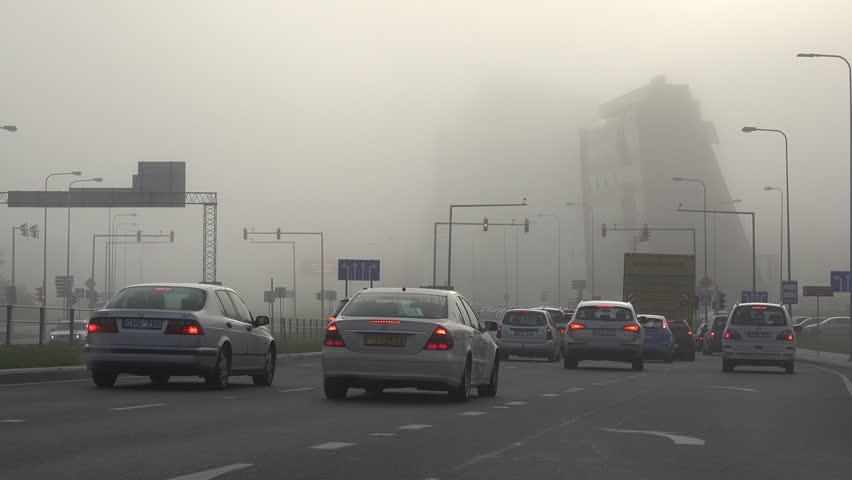backpack: (665, 319, 697, 361)
bench: (794, 316, 849, 366), (46, 319, 87, 343)
bicycle: (794, 316, 849, 353), (48, 318, 87, 344)
bus: (625, 270, 698, 356), (620, 248, 696, 320), (738, 289, 769, 303)
car: (82, 281, 276, 389), (321, 285, 498, 401), (514, 301, 605, 369), (561, 298, 646, 370), (720, 300, 797, 373), (588, 304, 670, 368), (622, 250, 697, 316), (769, 310, 848, 369), (631, 272, 687, 353), (496, 307, 567, 364), (793, 320, 850, 388), (467, 304, 529, 360), (646, 314, 701, 363), (700, 309, 758, 354), (720, 301, 771, 347), (474, 308, 505, 380), (795, 315, 849, 355), (451, 296, 507, 334), (19, 317, 87, 346), (638, 313, 677, 362), (250, 315, 277, 385), (672, 319, 717, 360), (717, 298, 775, 327), (333, 284, 382, 318), (505, 306, 566, 333), (488, 305, 521, 352), (570, 298, 637, 320), (495, 306, 538, 339), (731, 301, 790, 323), (537, 300, 586, 326), (667, 319, 697, 361), (784, 309, 824, 340), (550, 307, 574, 358), (660, 315, 689, 357), (779, 314, 800, 372), (472, 313, 500, 356), (557, 312, 579, 366), (470, 305, 503, 340), (531, 305, 575, 330), (690, 315, 718, 354), (478, 306, 517, 334), (710, 312, 736, 354), (700, 315, 728, 353), (635, 313, 671, 342), (784, 315, 806, 362), (47, 319, 87, 344), (816, 317, 849, 347), (794, 316, 841, 337), (690, 313, 725, 338), (545, 310, 567, 346), (466, 301, 496, 327), (778, 310, 818, 329), (680, 320, 701, 355), (792, 316, 818, 344), (695, 329, 725, 353), (489, 306, 529, 324), (812, 316, 851, 334), (779, 316, 804, 343), (676, 319, 705, 342), (481, 314, 502, 345), (476, 305, 506, 326), (527, 306, 563, 323), (547, 309, 572, 333), (486, 308, 506, 338), (670, 318, 693, 344), (705, 313, 723, 344), (476, 311, 501, 333), (553, 321, 567, 360), (557, 317, 571, 356), (698, 320, 716, 349), (793, 316, 829, 330), (684, 316, 712, 334), (745, 302, 781, 316), (691, 322, 706, 354), (471, 303, 501, 319), (554, 313, 573, 338), (637, 313, 667, 328), (494, 308, 510, 336), (552, 306, 576, 324), (804, 315, 840, 327), (537, 304, 570, 317), (692, 328, 713, 348), (697, 316, 720, 334), (478, 319, 500, 337), (559, 310, 576, 333), (708, 312, 728, 331), (492, 305, 512, 324), (788, 318, 806, 339), (739, 289, 768, 302), (819, 315, 850, 327), (626, 290, 642, 313), (669, 317, 693, 332), (679, 317, 702, 332), (696, 322, 709, 347), (790, 316, 813, 330), (556, 303, 578, 317), (695, 318, 711, 337)
chair: (638, 315, 676, 362), (473, 304, 506, 338)
fire hydrant: (665, 319, 697, 361)
motorcycle: (639, 314, 677, 363), (665, 319, 697, 361)
parking meter: (666, 319, 698, 361)
person: (719, 299, 797, 374), (639, 315, 675, 362), (251, 316, 276, 379), (667, 319, 698, 361), (472, 305, 506, 341), (703, 313, 731, 354), (250, 314, 275, 347), (421, 293, 449, 318), (324, 309, 343, 345), (397, 290, 422, 317), (412, 298, 437, 317), (695, 322, 709, 349), (626, 291, 641, 315), (421, 300, 442, 317), (252, 315, 271, 333), (431, 299, 449, 318), (180, 291, 199, 309), (136, 288, 154, 307), (148, 287, 164, 308), (406, 298, 424, 316), (324, 313, 335, 341), (325, 310, 338, 330)
tennis racket: (795, 315, 849, 355), (46, 321, 88, 344)
traffic light: (665, 319, 697, 361), (781, 280, 798, 305)
train: (623, 250, 700, 315)
truck: (81, 268, 273, 377), (601, 248, 704, 348), (561, 298, 646, 371), (717, 300, 798, 372), (622, 250, 697, 316), (631, 272, 687, 353), (496, 307, 568, 363), (637, 314, 676, 362), (665, 319, 697, 361), (704, 314, 729, 354), (46, 319, 87, 343), (735, 288, 769, 313), (568, 279, 586, 307), (739, 289, 768, 302)
